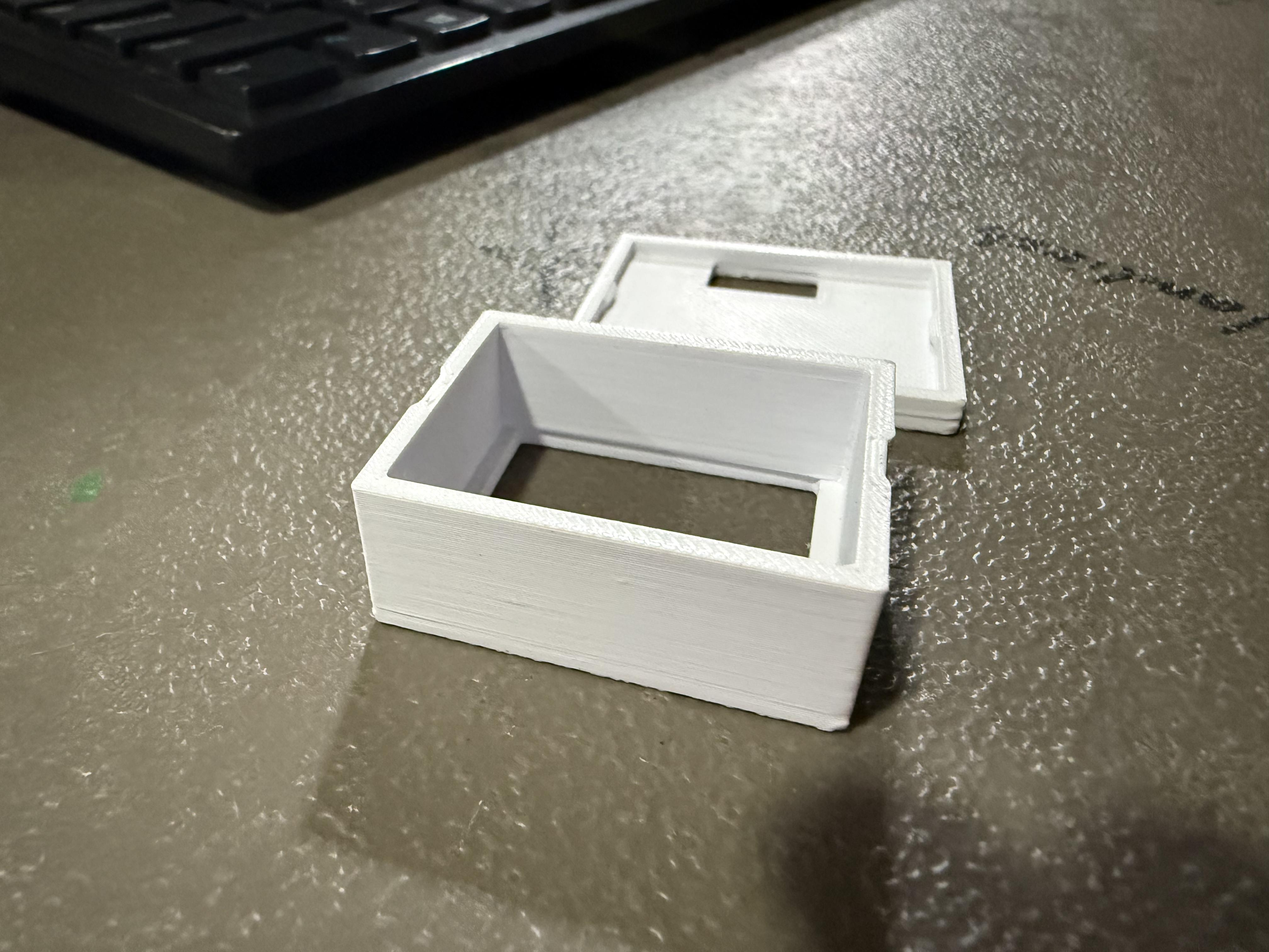enclosure: (350, 309, 897, 731), (582, 203, 1019, 443)
